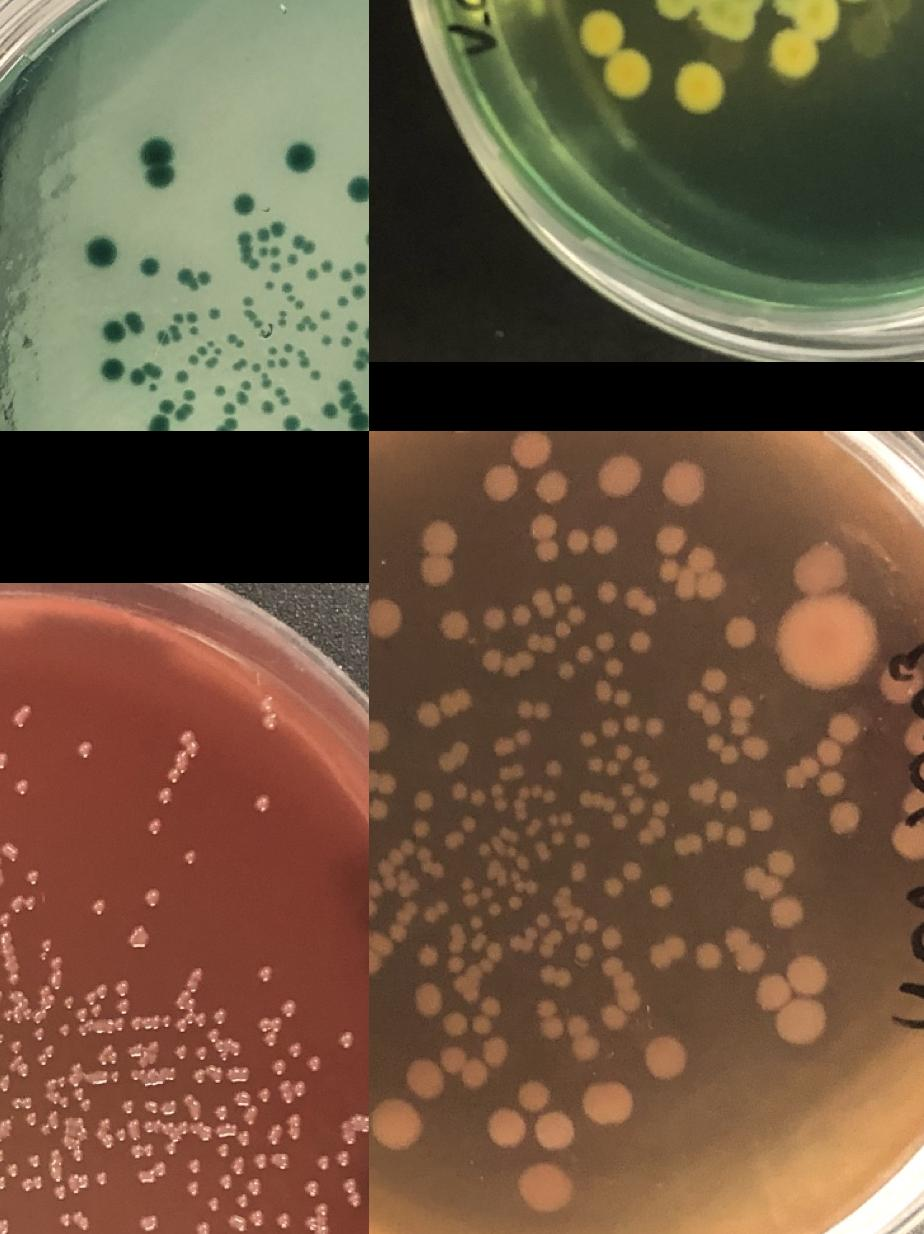assalmonicida: (166, 730, 201, 782), (160, 996, 208, 1032), (75, 984, 108, 1036), (0, 929, 21, 985), (67, 1072, 93, 1112), (258, 1015, 284, 1046), (278, 1078, 306, 1104), (57, 1210, 90, 1228), (91, 1016, 128, 1032), (100, 1127, 128, 1148), (10, 703, 33, 728), (342, 1178, 362, 1206), (302, 1215, 328, 1234), (36, 1044, 58, 1066), (19, 1174, 46, 1191), (8, 896, 38, 911), (146, 1100, 173, 1116), (130, 1144, 156, 1158), (340, 1120, 355, 1144), (182, 1094, 202, 1112), (8, 1096, 34, 1108), (4, 1162, 19, 1176), (0, 1175, 8, 1201), (340, 1032, 354, 1046), (336, 1150, 350, 1164), (317, 1156, 331, 1170), (314, 1201, 328, 1215), (307, 1055, 321, 1069), (306, 1181, 320, 1195), (288, 1041, 302, 1055), (288, 1126, 302, 1140), (272, 1059, 286, 1073), (264, 714, 278, 728), (257, 967, 271, 981), (257, 1087, 271, 1101), (254, 1153, 268, 1167), (249, 1210, 263, 1224), (246, 1180, 260, 1194), (237, 1130, 251, 1144), (232, 1159, 246, 1173), (230, 1214, 244, 1228), (218, 1174, 232, 1188), (214, 1006, 228, 1020), (212, 1105, 226, 1119), (207, 1196, 221, 1210), (196, 1126, 210, 1140), (194, 1046, 208, 1060), (186, 1159, 200, 1173), (185, 1180, 199, 1194), (182, 850, 196, 864), (174, 1044, 188, 1058), (164, 1066, 178, 1080), (153, 1162, 167, 1176), (147, 819, 161, 833), (146, 889, 160, 903), (140, 1216, 154, 1230), (138, 1170, 152, 1184), (129, 1017, 143, 1031), (116, 998, 130, 1012), (115, 980, 129, 994), (96, 1170, 110, 1184), (93, 898, 107, 912), (76, 1174, 90, 1188), (54, 1184, 68, 1198), (28, 1153, 42, 1167), (26, 870, 40, 884), (24, 1112, 38, 1126), (8, 1038, 22, 1052), (8, 988, 22, 1002), (4, 844, 18, 858), (255, 797, 268, 811), (78, 742, 91, 756), (59, 1094, 72, 1108), (51, 955, 65, 968), (14, 779, 28, 792), (282, 1002, 296, 1014), (276, 1214, 290, 1226), (271, 1124, 285, 1136), (260, 695, 274, 707), (237, 1092, 251, 1104), (235, 1194, 249, 1206), (217, 1144, 231, 1156), (207, 1028, 221, 1040), (192, 1070, 206, 1082), (164, 1142, 178, 1154), (158, 788, 172, 800), (122, 1100, 136, 1112), (108, 1070, 122, 1082), (61, 996, 75, 1008), (50, 1170, 64, 1182), (38, 1122, 52, 1134), (33, 1026, 47, 1038), (72, 1148, 85, 1160), (59, 1022, 72, 1034), (198, 1223, 212, 1234), (48, 1107, 60, 1119), (18, 1064, 30, 1076), (0, 1075, 11, 1088), (0, 1219, 8, 1234), (0, 1031, 7, 1047), (0, 754, 7, 768), (0, 1148, 6, 1161), (0, 1053, 3, 1066), (0, 989, 3, 1001)
pddamselae: (772, 588, 884, 692), (401, 1036, 509, 1100), (508, 431, 569, 505), (516, 1158, 576, 1218), (532, 582, 588, 641), (370, 1094, 424, 1154), (638, 1028, 692, 1086), (601, 954, 642, 1030), (439, 994, 502, 1037), (419, 520, 457, 586), (659, 458, 709, 506), (597, 452, 646, 500), (614, 742, 660, 790), (688, 662, 730, 711), (532, 1110, 578, 1152), (485, 1107, 529, 1149), (564, 523, 620, 555), (337, 376, 369, 431), (567, 1013, 600, 1062), (100, 310, 145, 342), (237, 227, 270, 269), (369, 599, 404, 638), (82, 233, 118, 269), (723, 614, 759, 650), (482, 464, 518, 500), (436, 606, 472, 642), (536, 995, 564, 1041), (599, 710, 643, 739), (167, 308, 202, 344), (826, 710, 861, 746), (768, 895, 804, 930), (413, 980, 446, 1018), (381, 868, 422, 898), (138, 136, 174, 170), (827, 800, 863, 834), (653, 523, 689, 557), (514, 1078, 550, 1112), (705, 732, 740, 766), (282, 140, 316, 174), (745, 802, 777, 834), (692, 940, 724, 972), (816, 767, 847, 799), (450, 780, 486, 806), (698, 568, 727, 600), (532, 512, 560, 544), (128, 360, 164, 384), (516, 698, 553, 721), (369, 767, 399, 795), (646, 881, 674, 910), (174, 386, 196, 422), (416, 700, 442, 730), (369, 718, 390, 754), (216, 400, 240, 431), (600, 922, 626, 950), (481, 603, 507, 631), (422, 898, 450, 924), (414, 942, 442, 968), (281, 280, 305, 310), (284, 342, 311, 368), (338, 259, 368, 282), (250, 360, 272, 391), (628, 628, 654, 654), (663, 933, 687, 961), (489, 782, 509, 814), (231, 190, 257, 214), (99, 356, 125, 380), (728, 694, 754, 718), (412, 788, 436, 814), (529, 782, 557, 804), (266, 344, 290, 368), (724, 824, 748, 848), (594, 629, 618, 653), (546, 810, 578, 828), (436, 749, 460, 773), (497, 761, 526, 780), (196, 337, 224, 356), (347, 176, 369, 200), (600, 875, 624, 897), (621, 859, 645, 880), (552, 966, 573, 990), (369, 797, 390, 821), (613, 688, 635, 710), (410, 816, 432, 838), (293, 233, 316, 254), (294, 314, 320, 332), (646, 716, 666, 738), (604, 656, 624, 678), (597, 581, 617, 603), (585, 753, 605, 775), (579, 728, 599, 750), (544, 756, 564, 778), (514, 726, 534, 748), (512, 603, 532, 625), (720, 790, 739, 811), (245, 309, 264, 329), (651, 797, 670, 817), (274, 385, 292, 406), (147, 414, 169, 431), (353, 346, 369, 369), (140, 257, 160, 275), (556, 661, 576, 679), (461, 814, 479, 834), (281, 413, 301, 430), (620, 780, 638, 798), (610, 812, 628, 830), (574, 830, 592, 848), (549, 828, 567, 846), (526, 632, 544, 650), (226, 332, 244, 349), (584, 916, 600, 934), (576, 646, 594, 662), (258, 246, 281, 258), (205, 304, 222, 320), (173, 368, 190, 384), (270, 221, 288, 236), (350, 284, 365, 300), (232, 356, 248, 371), (196, 269, 211, 284), (260, 399, 274, 415), (160, 398, 174, 414), (508, 895, 522, 911), (488, 900, 502, 916), (480, 884, 494, 900), (468, 914, 482, 930), (460, 876, 474, 892), (275, 308, 288, 325), (478, 842, 492, 857), (178, 268, 192, 282), (536, 912, 550, 926), (514, 879, 528, 893), (156, 331, 170, 343), (269, 261, 282, 273), (346, 320, 358, 332), (341, 336, 353, 348), (336, 295, 348, 307), (323, 403, 335, 415), (322, 259, 334, 271), (320, 333, 332, 345), (319, 308, 331, 320), (309, 369, 321, 381), (306, 268, 318, 280), (286, 252, 298, 264), (263, 278, 275, 290), (242, 294, 254, 306), (240, 379, 252, 391), (236, 392, 248, 404), (213, 385, 225, 397), (206, 356, 218, 368), (184, 354, 196, 366), (146, 381, 158, 393), (362, 325, 369, 341), (363, 229, 369, 247), (297, 427, 316, 431)
valgino: (577, 10, 655, 100), (770, 0, 840, 77), (672, 58, 727, 112), (717, 0, 762, 42), (657, 0, 698, 18)
